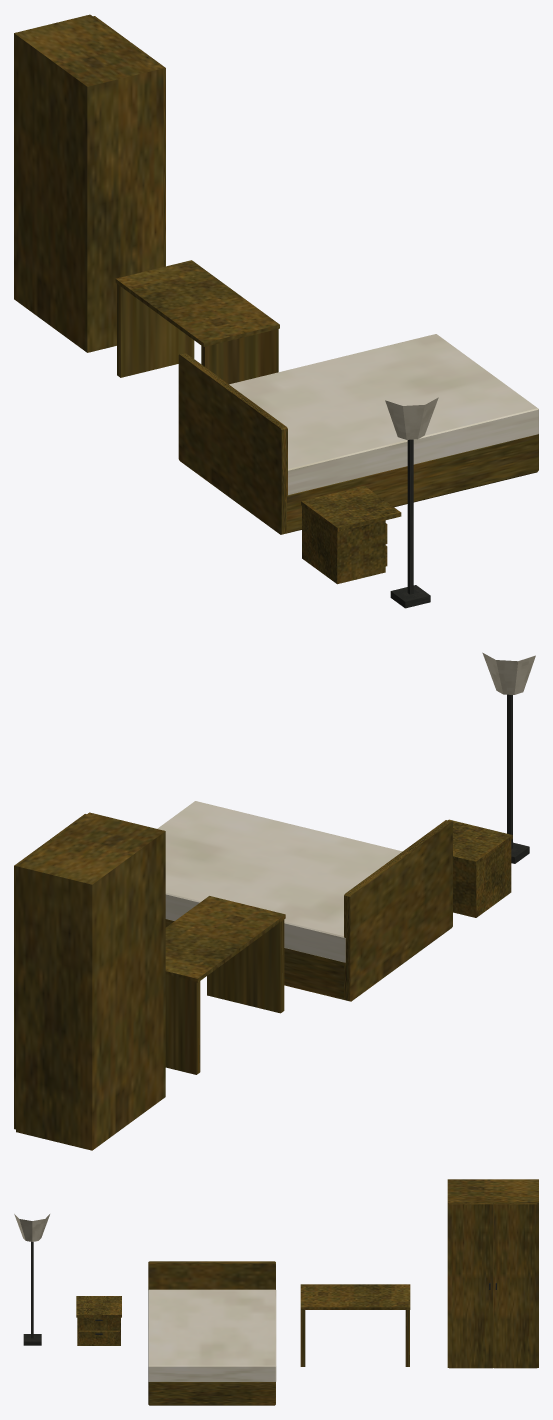
Rendered from room_furniture.glb.
The picture shows the model from 3 angles, top to bottom: view 1: azimuth 30°, elevation 25°; view 2: azimuth 150°, elevation 25°; view 3: azimuth 270°, elevation 25°; orthographic projection. The views are drawn at different scales.
Parts seen in each view (by area): view 1: Guarda_Roupa_Corpo_01, Colchao_Cama_01, Cabeceira_Cama_01, Escrivaninha_Tampo_01, Base_Cama_01, Mesa_Cabeceira_Corpo_01, Escrivaninha_Base_Direita_01, Escrivaninha_Base_Esquerda_01, Mesa_Cabeceira_Tampo_01, Abajur_Cupula_01, Abajur_Haste_01; view 2: Guarda_Roupa_Corpo_01, Colchao_Cama_01, Cabeceira_Cama_01, Escrivaninha_Tampo_01, Escrivaninha_Base_Esquerda_01, Escrivaninha_Base_Direita_01, Mesa_Cabeceira_Corpo_01, Base_Cama_01, Mesa_Cabeceira_Tampo_01, Abajur_Cupula_01, Abajur_Haste_01, Guarda_Roupa_Porta_Direita_01; view 3: Colchao_Cama_01, Guarda_Roupa_Porta_Direita_01, Guarda_Roupa_Porta_Esquerda_01, Cabeceira_Cama_01, Guarda_Roupa_Corpo_01, Base_Cama_01, Escrivaninha_Tampo_01, Mesa_Cabeceira_Tampo_01, Mesa_Cabeceira_Gaveta1_Frente_01, Mesa_Cabeceira_Gaveta1_Frente_02, Abajur_Cupula_01, Escrivaninha_Base_Esquerda_01 (+2 smaller).
Boxes of the visible parts, left/top/right/bottom form: Guarda_Roupa_Corpo_01: left=14, top=14, right=163, bottom=352; Colchao_Cama_01: left=229, top=334, right=538, bottom=495; Cabeceira_Cama_01: left=178, top=353, right=287, bottom=534; Escrivaninha_Tampo_01: left=115, top=260, right=279, bottom=346; Base_Cama_01: left=287, top=434, right=538, bottom=532; Mesa_Cabeceira_Corpo_01: left=302, top=506, right=385, bottom=584; Escrivaninha_Base_Direita_01: left=117, top=284, right=194, bottom=377; Escrivaninha_Base_Esquerda_01: left=201, top=329, right=278, bottom=384; Mesa_Cabeceira_Tampo_01: left=301, top=485, right=401, bottom=531; Abajur_Cupula_01: left=385, top=397, right=438, bottom=439; Abajur_Haste_01: left=407, top=439, right=413, bottom=594; Guarda_Roupa_Corpo_01: left=16, top=812, right=165, bottom=1150; Colchao_Cama_01: left=157, top=801, right=402, bottom=962; Cabeceira_Cama_01: left=344, top=820, right=452, bottom=1001; Escrivaninha_Tampo_01: left=165, top=896, right=285, bottom=982; Escrivaninha_Base_Esquerda_01: left=207, top=920, right=284, bottom=1013; Escrivaninha_Base_Direita_01: left=165, top=975, right=200, bottom=1074; Mesa_Cabeceira_Corpo_01: left=453, top=840, right=511, bottom=917; Base_Cama_01: left=165, top=919, right=343, bottom=999; Mesa_Cabeceira_Tampo_01: left=448, top=819, right=512, bottom=865; Abajur_Cupula_01: left=482, top=652, right=535, bottom=694; Abajur_Haste_01: left=507, top=694, right=512, bottom=849; Guarda_Roupa_Porta_Direita_01: left=14, top=840, right=50, bottom=1129; Colchao_Cama_01: left=148, top=1289, right=276, bottom=1381; Guarda_Roupa_Porta_Direita_01: left=493, top=1203, right=537, bottom=1368; Guarda_Roupa_Porta_Esquerda_01: left=449, top=1203, right=492, bottom=1368; Cabeceira_Cama_01: left=148, top=1261, right=275, bottom=1289; Guarda_Roupa_Corpo_01: left=447, top=1179, right=538, bottom=1367; Base_Cama_01: left=148, top=1382, right=275, bottom=1405; Escrivaninha_Tampo_01: left=300, top=1284, right=410, bottom=1309; Mesa_Cabeceira_Tampo_01: left=76, top=1296, right=121, bottom=1317; Mesa_Cabeceira_Gaveta1_Frente_01: left=79, top=1317, right=119, bottom=1330; Mesa_Cabeceira_Gaveta1_Frente_02: left=79, top=1330, right=119, bottom=1343; Abajur_Cupula_01: left=14, top=1214, right=49, bottom=1241; Escrivaninha_Base_Esquerda_01: left=300, top=1310, right=305, bottom=1366.
Size of the model in its own units: 2.04 by 2.01 by 5.75.
20 materials, 20 textured.
